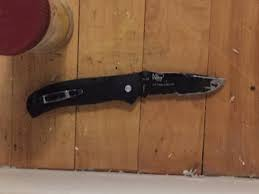knife: (22, 69, 229, 122)
